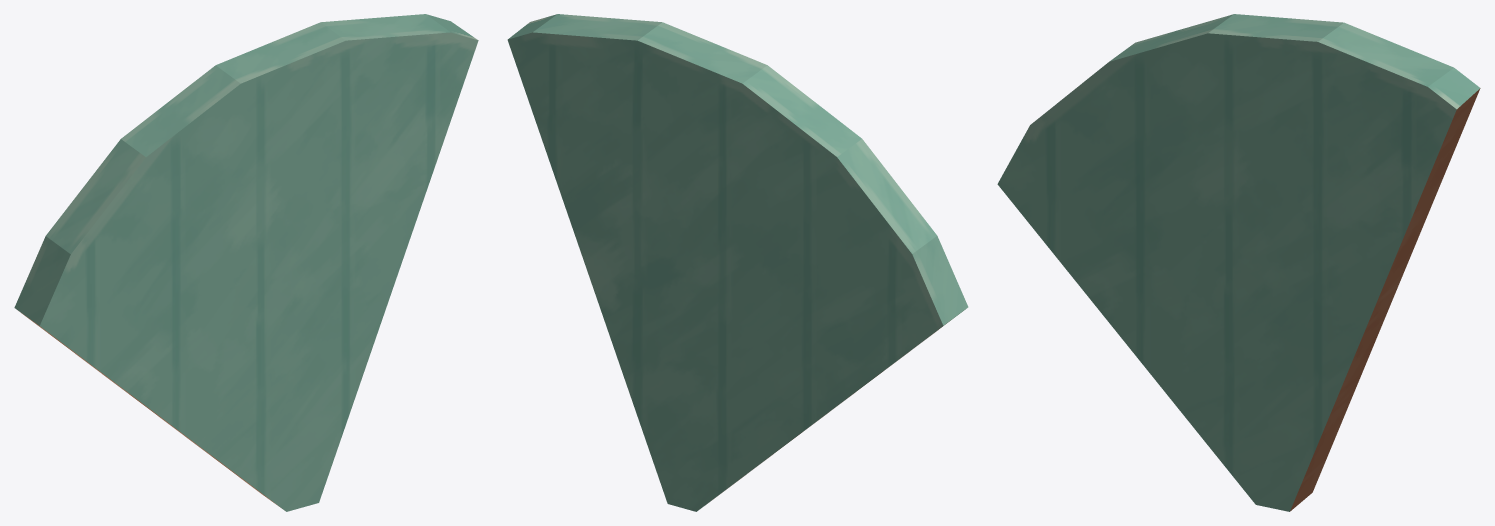
File: door2_teal_s02.fbx
3 renders of one model, left to right at view 1: azimuth 30°, elevation 25°; view 2: azimuth 150°, elevation 25°; view 3: azimuth 330°, elevation 25°, orthographic. The views are drawn at different scales.
Visible parts, largest first — view 1: door2_teal_s02; view 2: door2_teal_s02; view 3: door2_teal_s02.
Part boxes in pixels (x1=…): door2_teal_s02: x1=14, y1=14, x2=478, y2=511; door2_teal_s02: x1=507, y1=14, x2=968, y2=511; door2_teal_s02: x1=997, y1=14, x2=1480, y2=511.
Bounding box in the file's own units: 2.82 × 2.8 × 0.28.
